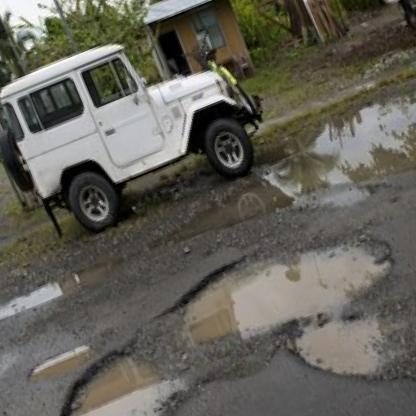pothole: (159, 199, 408, 374), (284, 278, 416, 416), (34, 320, 203, 416), (20, 341, 99, 394)
